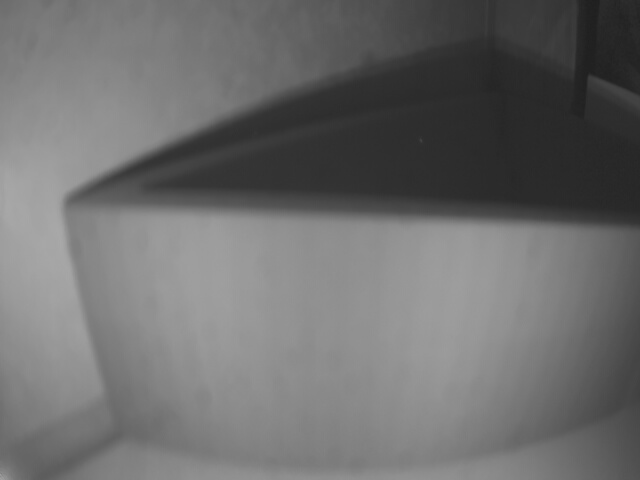Green: (71, 197, 640, 456)
